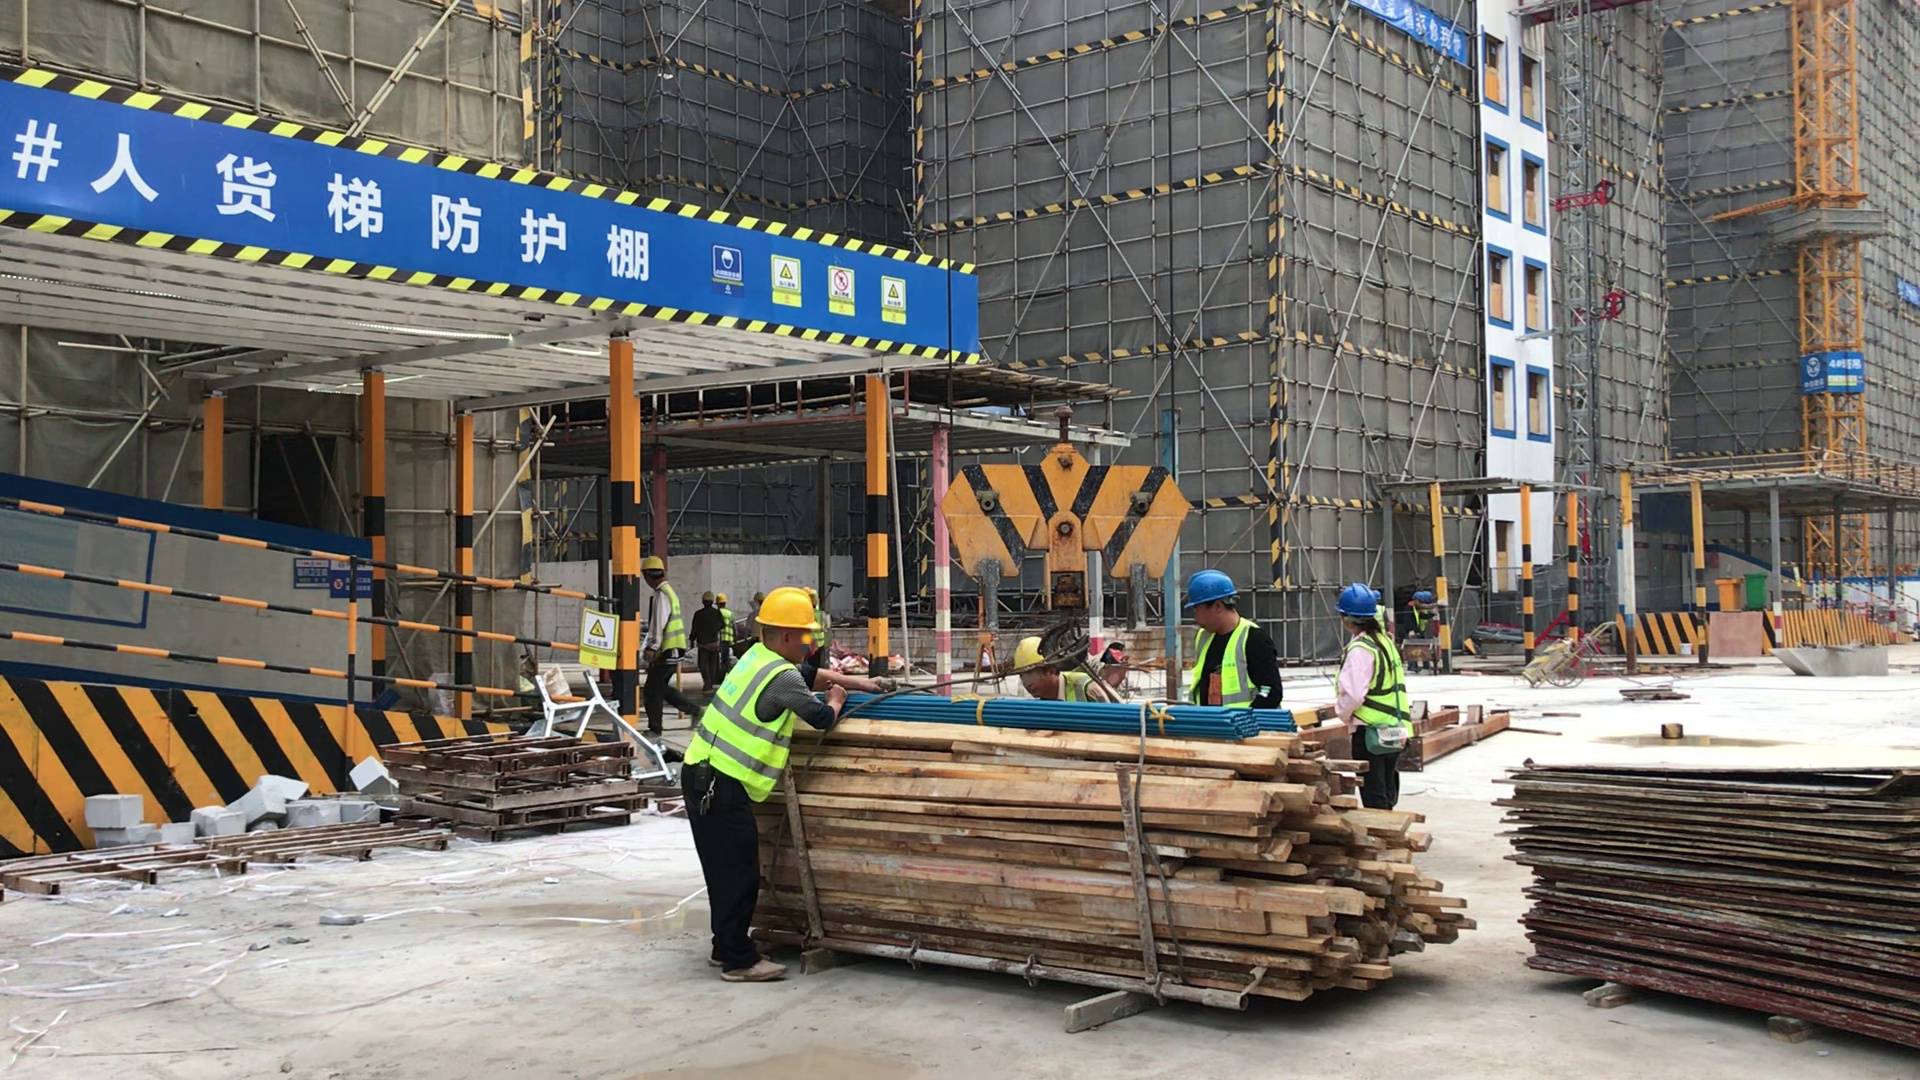board: (1485, 737, 1894, 1045)
helmet: (755, 583, 822, 635), (1182, 566, 1241, 609), (1009, 634, 1055, 673), (1336, 581, 1378, 618), (640, 551, 666, 574), (1411, 585, 1433, 601), (699, 586, 717, 603), (718, 592, 727, 603)
hook: (932, 433, 1191, 651)
hopper: (1768, 632, 1898, 687)
person: (678, 584, 888, 988), (1334, 583, 1412, 816), (1180, 564, 1290, 717), (638, 552, 686, 753), (1008, 635, 1109, 708), (696, 588, 727, 693), (1404, 588, 1442, 645), (808, 581, 827, 661), (718, 593, 738, 662)
slogan: (12, 50, 982, 374), (1352, 1, 1475, 70)
vest: (674, 640, 803, 805), (1170, 615, 1263, 704), (1340, 630, 1411, 729), (646, 586, 691, 655)
wood: (707, 680, 1490, 1022)
